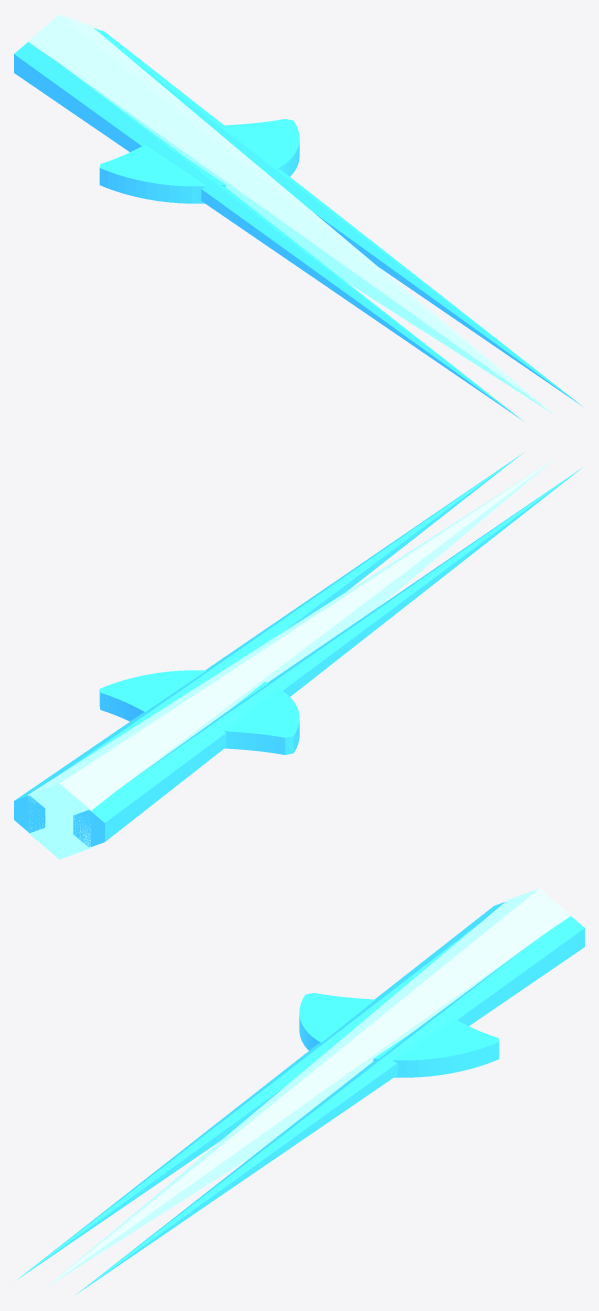
The model's file is fxFocus.glb.
3 renders of one model, top to bottom at view 1: azimuth 30°, elevation 25°; view 2: azimuth 150°, elevation 25°; view 3: azimuth 330°, elevation 25°, orthographic.
Parts seen in each view (by area): view 1: FX01_FocusedThrust_Mesh; view 2: FX01_FocusedThrust_Mesh; view 3: FX01_FocusedThrust_Mesh.
Boxes of the visible parts, <box> form: FX01_FocusedThrust_Mesh: <box>14,14,582,420</box>; FX01_FocusedThrust_Mesh: <box>14,453,582,859</box>; FX01_FocusedThrust_Mesh: <box>16,888,584,1294</box>.
Size of the model in its own units: 0.000587 by 0.00022 by 0.0026.
